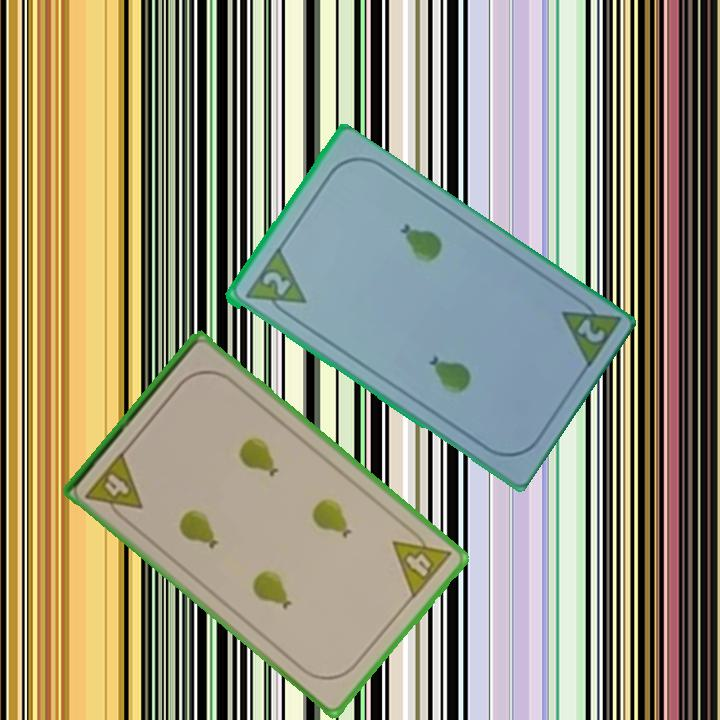2p: (240, 246, 309, 323), (557, 290, 621, 373)
4p: (389, 521, 454, 602), (82, 447, 146, 526)
